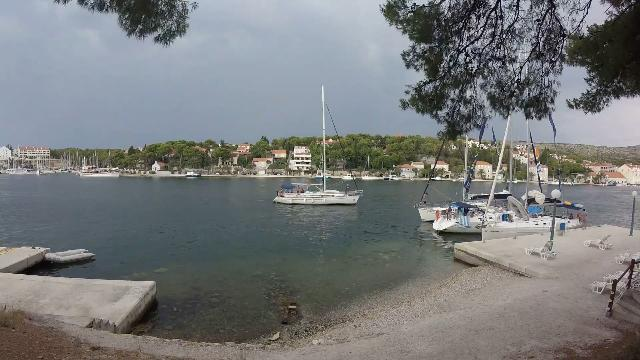Sailboat: (270, 177, 370, 211)
